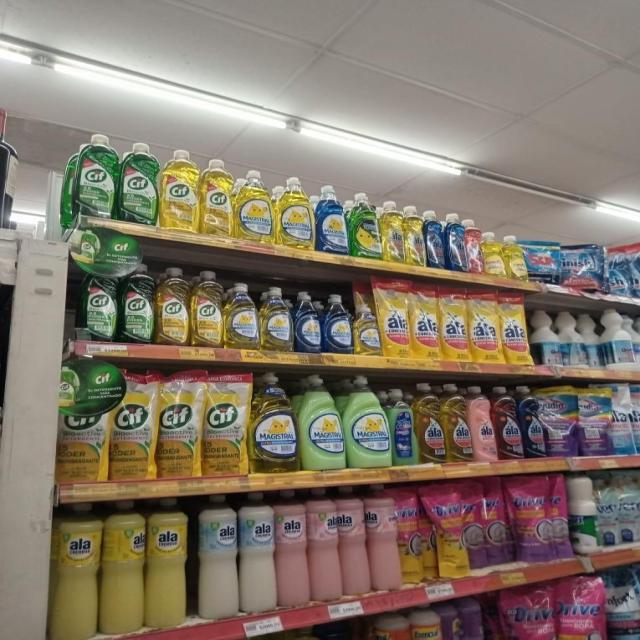ala_conc_amarillo: (416, 382, 443, 464), (444, 383, 470, 463)
ala_conc_azul: (522, 386, 544, 459), (426, 210, 444, 269)
ala_conc_rojo: (495, 385, 521, 460)
ala_crem_amarillo: (51, 500, 99, 640), (146, 496, 190, 629)
ala_crem_blanco: (195, 493, 238, 620), (240, 491, 275, 614)
ala_crem_rosado: (276, 489, 308, 609), (309, 486, 339, 604), (368, 483, 398, 592), (340, 486, 368, 597)
ala_sachet_amarillo: (381, 279, 410, 358), (411, 285, 440, 359), (470, 291, 500, 362), (501, 293, 531, 364), (440, 288, 469, 361)
ala_ultra_rosa: (470, 385, 495, 462)
cif_conc_bot_amarilla: (159, 149, 199, 231), (156, 266, 190, 346), (190, 269, 223, 348), (200, 158, 233, 236)
cif_conc_botella_verde: (72, 133, 117, 220), (119, 142, 158, 225), (81, 265, 118, 342), (120, 263, 154, 344)
cif_conc_sachet_amarillo: (58, 376, 108, 484), (110, 372, 155, 482), (157, 370, 201, 479), (203, 371, 248, 476)
drive: (398, 485, 429, 586), (435, 481, 465, 579), (484, 476, 510, 567), (465, 479, 484, 573)
heroe: (372, 610, 412, 640), (413, 604, 445, 640)
magistral_con_amarillo: (250, 372, 298, 474), (234, 169, 273, 242), (276, 176, 314, 248), (224, 282, 259, 349), (260, 285, 292, 352), (354, 282, 380, 355)
magistral_con_azul: (316, 185, 348, 254), (324, 292, 352, 354), (295, 291, 322, 353)
magistral_con_crema: (345, 375, 390, 468), (300, 374, 343, 471)
zorro: (390, 387, 416, 466)
